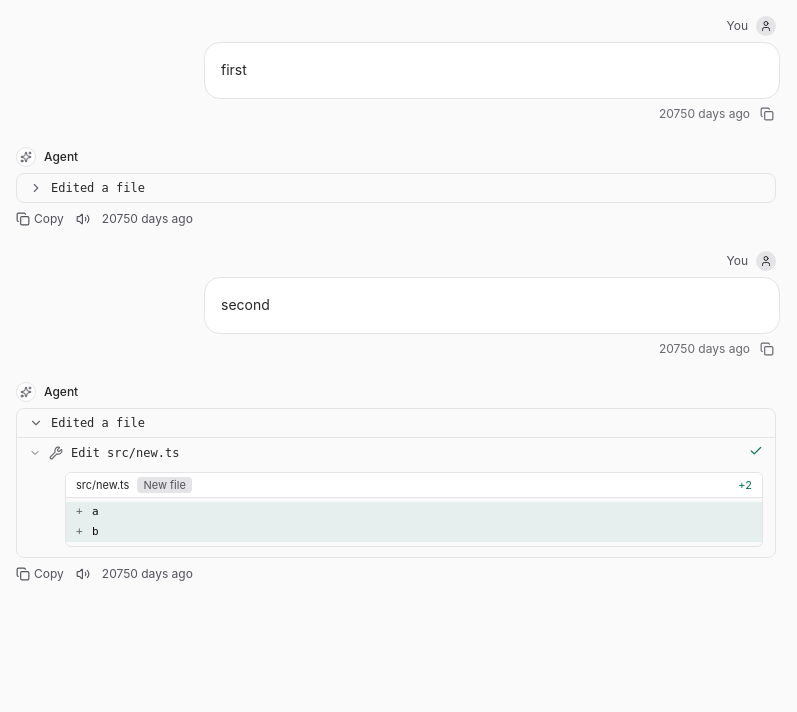
Scenario: a long session › opens a diff only in the turn the user is watching
The width and height of the screenshot is (797, 712).
Expected: the element named "Changes to src/new.ts" is shown, [65,472,763,547]
Click the 1st button "Edited a file".
click(98, 188)  # box [17,174,775,202]
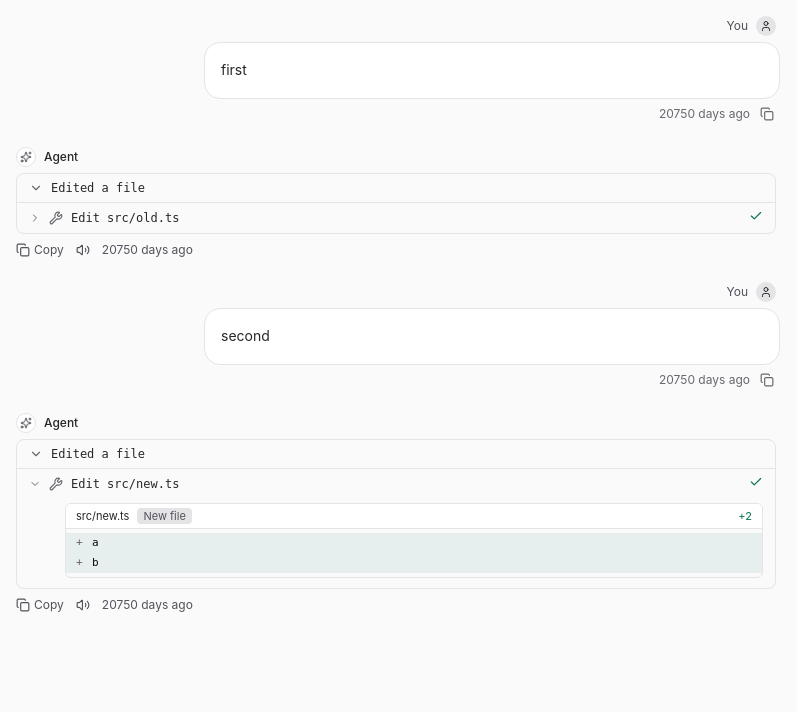
Click the button "Edit src/old.ts".
click(125, 218)  # box [17,203,775,233]
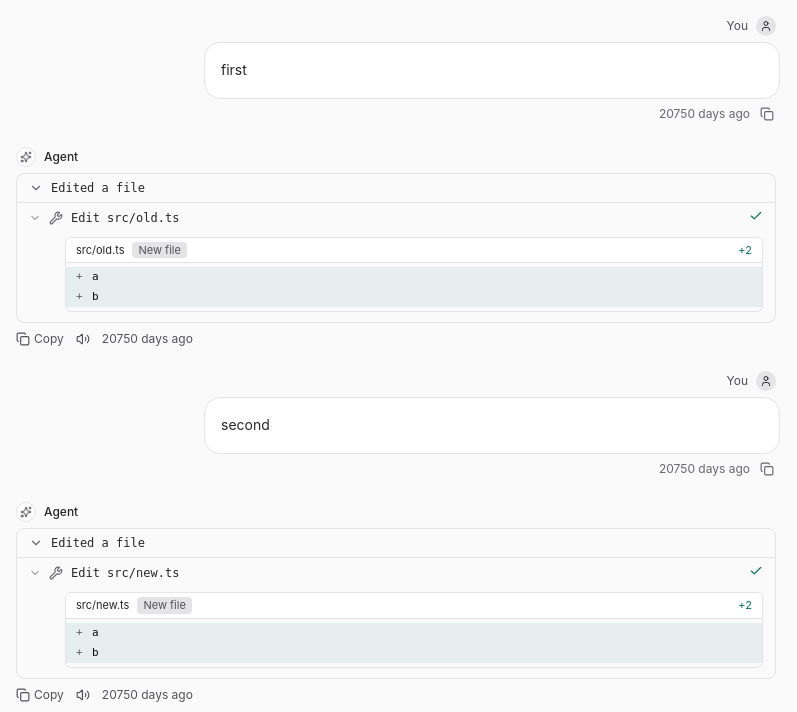
Now the element named "Changes to src/old.ts" is shown, box [65,237,763,312]
